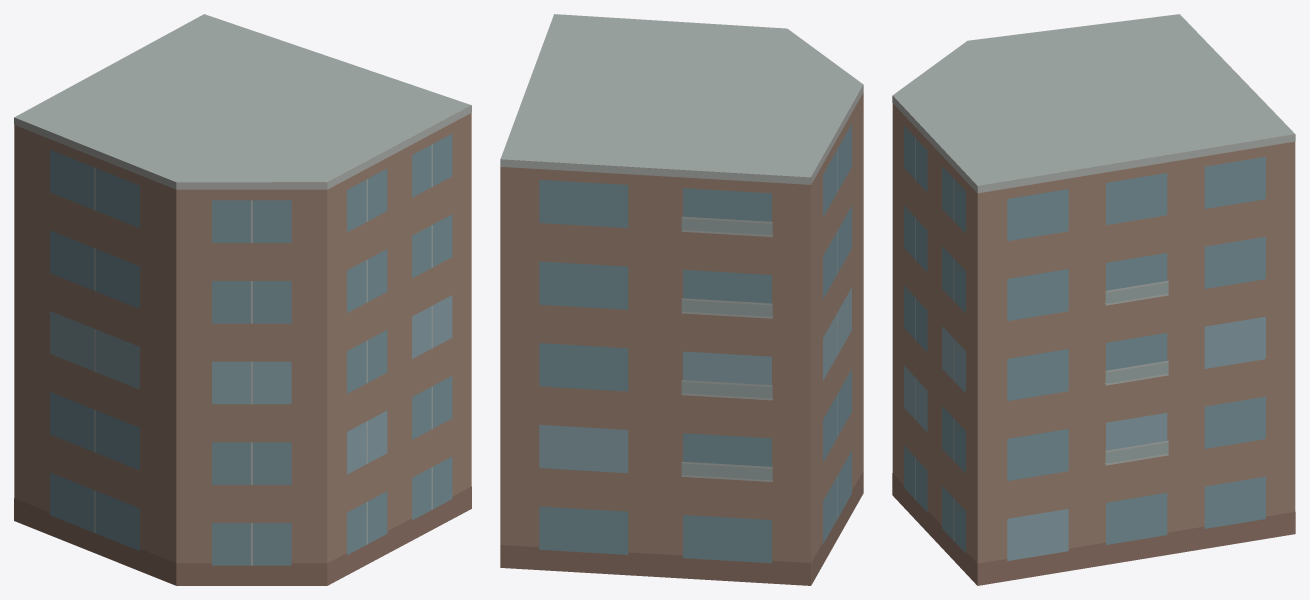
File: survey-upis-32967300.glb
3 views of the same model, side by side, from view 1: azimuth 30°, elevation 25°; view 2: azimuth 150°, elevation 25°; view 3: azimuth 270°, elevation 25° (orthographic). The views are drawn at different scales.
Parts seen in each view (by area): view 1: survey-upis-32967300.tmp; view 2: survey-upis-32967300.tmp; view 3: survey-upis-32967300.tmp.
Boxes of the visible parts, box(x1,y1,x2,y2) form: survey-upis-32967300.tmp: box(14, 14, 471, 585); survey-upis-32967300.tmp: box(500, 14, 863, 585); survey-upis-32967300.tmp: box(892, 14, 1295, 585).
Size of the model in its own units: 12.28 by 13.3 by 12.16.
